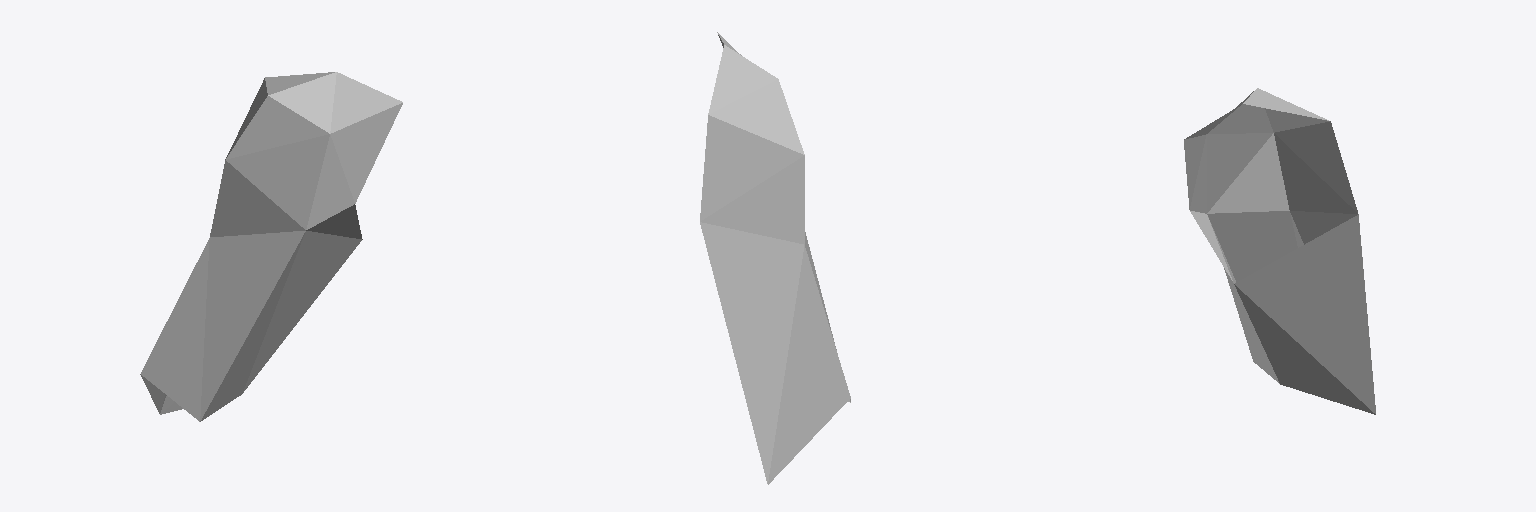
The model's file is 02-right_arm2.obj.
The picture shows the model from 3 angles: view 1: azimuth 30°, elevation 25°; view 2: azimuth 150°, elevation 25°; view 3: azimuth 270°, elevation 25°; orthographic projection.
Parts seen in each view (by area): view 1: Man.002_Body.002; view 2: Man.002_Body.002; view 3: Man.002_Body.002.
Boxes of the visible parts, x1=… form: Man.002_Body.002: x1=140, y1=72, x2=402, y2=421; Man.002_Body.002: x1=700, y1=32, x2=850, y2=484; Man.002_Body.002: x1=1184, y1=88, x2=1375, y2=414.
Size of the model in its own units: 0.704 by 1.24 by 0.5914.